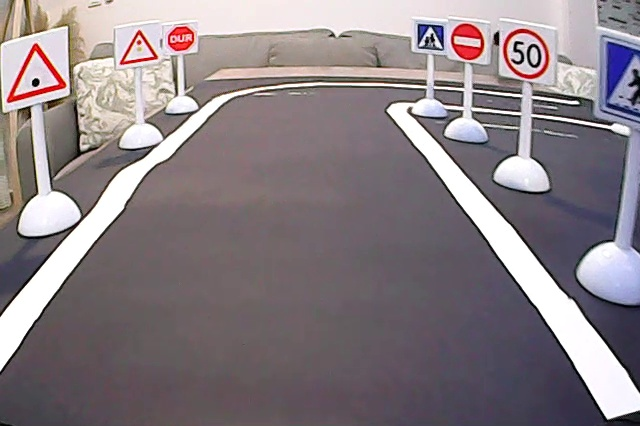do not enter: (447, 18, 490, 62)
green light: (1, 39, 70, 105)
pedestrian crossing: (597, 30, 640, 126)
red light: (113, 24, 160, 67)
school crossing: (412, 18, 446, 54)
speed limit 50: (500, 22, 555, 85)
stop sign: (165, 22, 200, 57)
